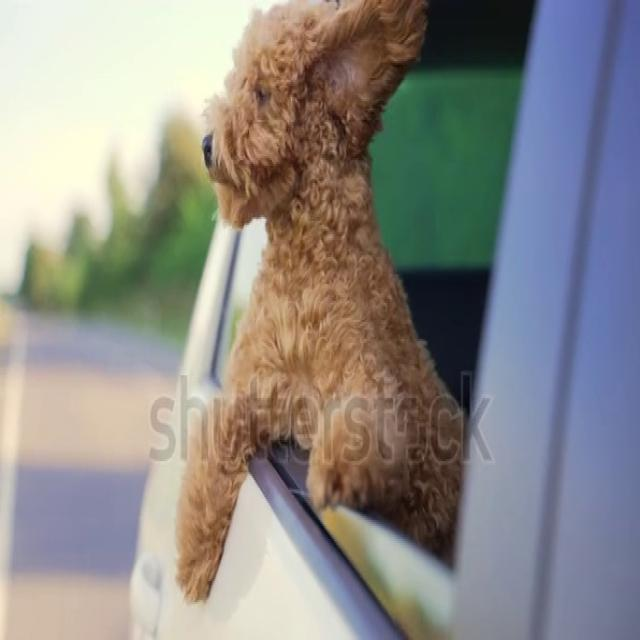normal_animals: (170, 0, 470, 606)
